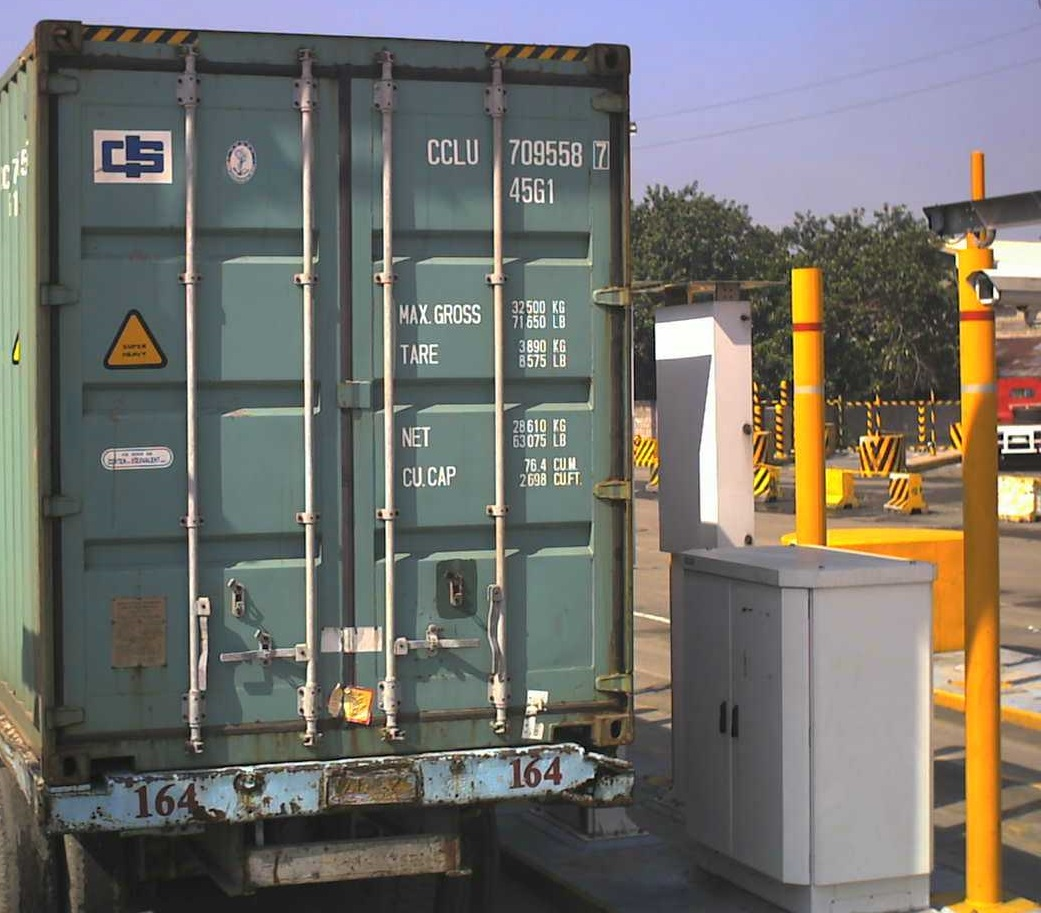container_door: (32, 18, 637, 799)
